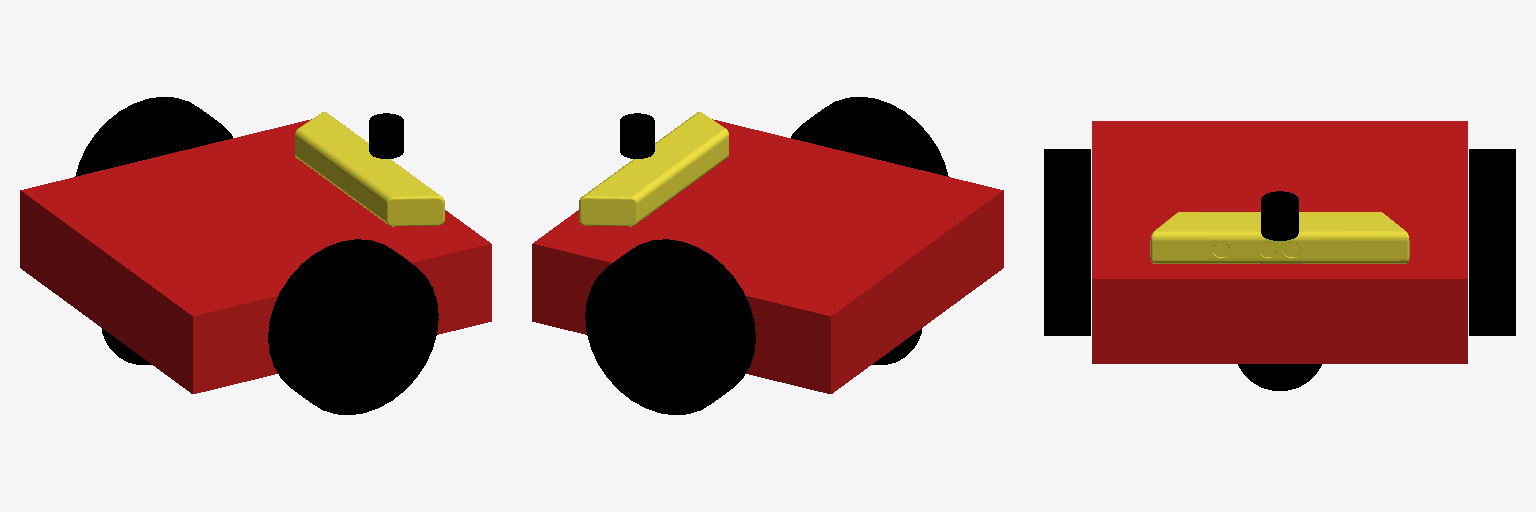
robot.urdf — trail_robo_rtab:
<?xml version="1.0" ?>

<robot name="trail_robo_rtab">
    
  <material name="black">
    <color rgba="0.0 0.0 0.0 1.0"/>
  </material>
  <material name="blue">
    <color rgba="0.203125 0.23828125 0.28515625 1.0"/>
  </material>
  <material name="green">
    <color rgba="0.0 0.8 0.0 1.0"/>
  </material>
  <material name="grey">
    <color rgba="0.2 0.2 0.2 1.0"/>
  </material>
  <material name="orange">
    <color rgba="1.0 0.423529411765 0.0392156862745 1.0"/>
  </material>
  <material name="brown">
    <color rgba="0.870588235294 0.811764705882 0.764705882353 1.0"/>
  </material>
  <material name="red">
    <color rgba="0.80078125 0.12890625 0.1328125 1.0"/>
  </material>
  <material name="white">
    <color rgba="1.0 1.0 1.0 1.0"/>
  </material>  
  
  <gazebo reference="chassis">
    <material>Gazebo/Red</material>
  </gazebo>
  <gazebo reference="left_wheel">
    <material>Gazebo/Black</material>
  </gazebo>
  <gazebo reference="right_wheel">
    <material>Gazebo/Black</material>
  </gazebo>

  
<!-- fixed link  
<link name="robot_footprint"></link>
  <joint name="robot_footprint_joint" type="fixed">
    <origin xyz="0 0 0" rpy="0 0 0" />
    <parent link="robot_footprint"/>
    <child link="chassis" />
  </joint>
  
  -->
  
  <!--- trail_robo base link-->
  
    <link name="chassis">
    
    <pose>0 0 0.1 0 0 0</pose>
    
    <inertial>
      <mass value="2"/>
      <origin rpy="0 0 0" xyz="0 0 0"/>
      <inertia ixx="0.028333" ixy="0" ixz="0" iyy="0.028333" iyz="0" izz="0.05333"/>
    </inertial>
    
    <collision name="collision_chassis">
      <geometry>
        <box size="0.4 0.4 0.1"/>
      </geometry>
    </collision>
    
    <visual>
      <origin rpy="0 0 0" xyz="0 0 0"/>
      <geometry>
        <box size="0.4 0.4 0.1"/>
      </geometry>
      <material name="red"/>
    </visual>
    
    
    <inertial>
  	<mass value="0.25"/>
      <origin rpy="0 0 0" xyz="0 0 0"/>
      <inertia ixx="0.0004167" ixy="0" ixz="0" iyy="0.0004167" iyz="0" izz="0.0004167"/>
  </inertial>
     <collision name="caster_collision">
      <origin rpy=" 0 0 0" xyz="0.15 0 -0.05"/>
      <geometry>
        <sphere radius="0.049"/>
      </geometry>
      <surface>
        <friction>
          <ode>
            <mu>0</mu>
            <mu2>0</mu2>
            <slip1>1.5</slip1>
            <slip2>1.5</slip2>
          </ode>
        </friction>
      </surface>
    </collision>
    <visual name="caster_visual">
      <origin rpy=" 0 0 0" xyz="0.15 0 -0.05"/>
      <geometry>
        <sphere radius="0.05"/>
      </geometry>
      <material name="black"/>
    </visual>
    
    <inertial>
  	<mass value="0.25"/>
      <origin rpy="0 0 0" xyz="0 0 0"/>
      <inertia ixx="0.0004167" ixy="0" ixz="0" iyy="0.0004167" iyz="0" izz="0.0004167"/>
  </inertial>
     <collision name="caster_collision2">
      <origin rpy=" 0 0 0" xyz="-0.15 0 -0.05"/>
      <geometry>
        <sphere radius="0.049"/>
      </geometry>
      <surface>
        <friction>
          <ode>
            <mu>0</mu>
            <mu2>0</mu2>
            <slip1>1.5</slip1>
            <slip2>1.5</slip2>
          </ode>
        </friction>
      </surface>
    </collision>
    <visual name="caster_visual2">
      <origin rpy=" 0 0 0" xyz="-0.15 0 -0.05"/>
      <geometry>
        <sphere radius="0.05"/>
      </geometry>
      <material name="black"/>
    </visual>
     
    
    </link>
  
 <!-- 
  <link name="caster_wheel">
  
  <joint name="joint_caster_wheel" type="fixed">
    <origin rpy="0 0 0" xyz="0.19490 0 -0.05"/>   
    <parent link="chassis"/>
    <child link="caster_wheel" />
    <axis rpy="0 0 0" xyz="0 0 0"/>
  </joint>  
  
  -->
  
  
  <!-- Create wheel right -->  
    
  <link name="right_wheel">    
    <inertial>
      <mass value="0.2"/>
      <origin xyz="0 -0.025 0" rpy="1.5707 0 0"/>
      <inertia ixx="0.0005417" ixy="0" ixz="0" iyy="0.0005417" iyz="0" izz="0.001"/>
    </inertial>
    
    <collision name="right_wheel_collision">
       <origin xyz="0 -0.025 0" rpy="1.5707 0 0"/>
      <geometry>
        <cylinder length="0.05" radius="0.1"/>
      </geometry>
    </collision>
    
    <visual name="right_wheel_visual">
       <origin xyz="0 -0.025 0" rpy="1.5707 0 0"/>
      <geometry>
        <cylinder length="0.05" radius="0.1"/>
      </geometry>  
      <material name="black"/>    
    </visual>
    
  </link>
    
  <!--   Joint for right wheel  -->
  <joint name="joint_right_wheel" type="continuous">
    <origin rpy="0 0 0" xyz="0 -0.201 0"/>
    
    <parent link="chassis"/>
    <child link="right_wheel" />
    <axis xyz="0 1 0"/>

   </joint>
    
  <!-- Left Wheel link -->
    
  <link name="left_wheel">    
    <inertial>
      <mass value="0.2"/>
      <origin rpy="1.5707 0 0" xyz="0 0.025 0"/>
     <inertia ixx="0.0005417" ixy="0" ixz="0" iyy="0.0005417" iyz="0" izz="0.001"/>
    </inertial>
    
    <collision name="left_wheel_collision">
      <origin rpy="1.5707 0 0" xyz="0 0.025 0" />
      <geometry>
        <cylinder length="0.05" radius="0.1"/>
      </geometry>
    </collision>
    
    <visual name="left_wheel_visual">
      <origin rpy="1.5707 0 0" xyz="0 0.025 0"/>
      <geometry>
        <cylinder length="0.05" radius="0.1"/>
      </geometry>   
      <material name="black"/>    
    </visual>
    
  </link>
    
  <!--   Joint for left wheel  -->
  <joint name="joint_left_wheel" type="continuous">
    <origin rpy="0 0 0" xyz="0 0.201 0"/>
    <child link="left_wheel" />
    <parent link="chassis"/>
    <axis rpy="0 0 0" xyz="0 1 0"/>
   
  </joint>    
  
  
  <!--Camera-->
  
  <link name="camera_frame">
  <inertial>
    <origin xyz="0.0 0.0 0.0" rpy="0.0 0.0 0.0"/>
    <mass value="0.1"/>
    <inertia ixx="1e-6" ixy="0.0" ixz="0.0" iyy="1e-6" iyz="0.0" izz="1e-6"/>
  </inertial>

  <visual name="camera_visual">
    <origin xyz="0.0 0.0 0.0" rpy="0.0 0.0 0.0"/>
    
    <geometry>
    <mesh filename="package://rtab/meshes/kinect.dae"/>
      <!--box size="0.05 0.05 0.05"/-->
    </geometry>
    <!--material name="white"/-->
  </visual>
  <collision>
    <origin xyz="0.0 0.0 0.0" rpy="0.0 0.0 0.0"/>
    <geometry>
      <box size="0.05 0.05 0.05"/>
    </geometry>
    
  </collision>
</link>

<joint name="camera_head_joint" type="fixed">
  <origin xyz="0.175 0 0.0725" rpy="0.0 0 0"/>
  <parent link="chassis"/>
  <child link="camera_frame"/>
  <axis xyz="0 0 0.0"/>
  <limit lower="0.0" upper="0.0" effort="0.0" velocity="0.0"/>
</joint>

<link name="camera_rgbd_frame"/>

<joint name="camera_joint" type="fixed">
        <origin xyz="0 0 0" rpy="-1.5707 0 -1.5707"/>
        <parent link="camera_frame"/>
        <child link="camera_rgbd_frame"/>
    </joint>

  

<link name="sensor_hokuyo">
  <inertial>
    <origin xyz="0.0 0.0 0.0" rpy="0.0 0.0 0.0"/>
    <mass value="0.1"/>
    <inertia ixx="1e-6" ixy="0.0" ixz="0.0" iyy="1e-6" iyz="0.0" izz="1e-6"/>
  </inertial>

  <visual>
    <origin xyz="0.0 0.0 0.0" rpy="0.0 0.0 0.0"/>
    <geometry>
      <cylinder radius="0.02" length="0.04"/>
    </geometry>
    <material name="black"/>
  </visual>
  <collision>
    <origin xyz="0.0 0.0 0.0" rpy="0.0 0.0 0.0"/>
    <geometry>
      <cylinder radius="0.02" length="0.04"/>
    </geometry>
    
  </collision>
</link>

<joint name="sensor_head_joint" type="fixed">
  <origin xyz="0 0 0.040" rpy="0.0 0 0"/>
  <parent link="camera_frame"/>
  <child link="sensor_hokuyo"/>
  <axis xyz="0 0 0.0"/>
</joint>
  
  
  <!-- Plugins -->
  
 <gazebo>
    <plugin name="differential_drive_controller" filename="libgazebo_ros_diff_drive.so">
      <legacyMode>false</legacyMode>
      <alwaysOn>true</alwaysOn>
      <updateRate>10</updateRate>
      <leftJoint>joint_left_wheel</leftJoint>
      <rightJoint>joint_right_wheel</rightJoint>
      <wheelSeparation>0.5</wheelSeparation>
      <wheelDiameter>0.2</wheelDiameter>
      <torque>100</torque>
      <commandTopic>cmd_vel</commandTopic>
      <odometryTopic>odom</odometryTopic>
      <odometryFrame>odom</odometryFrame>
      <robotBaseFrame>chassis</robotBaseFrame>
      <publishWheelTF>false</publishWheelTF>
      <publishWheelJointState>false</publishWheelJointState>
      <rosDebugLevel>na</rosDebugLevel>
      <wheelAcceleration>0</wheelAcceleration>
      <wheelTorque>20</wheelTorque>
      <odometrySource>world</odometrySource>
      <publishTf>1</publishTf>
      <publishOdomTF>true</publishOdomTF>
    </plugin>
  </gazebo>
  
  <gazebo reference="camera_frame">
    <sensor type="depth" name="camera">
    <always_on>true</always_on>
      <update_rate>10.0</update_rate>
       <visualize>true</visualize>   
      <camera name="head">
        <horizontal_fov>1.047198</horizontal_fov>
        <image>
          <width>640</width>
          <height>480</height>
          <format>R8G8B8</format>
        </image>
        <clip>
          <near>0.05</near>
          <far>8.0</far>
        </clip>
      </camera>

    <plugin name="kinect_camera_controller" filename="libgazebo_ros_openni_kinect.so">
          <baseline>0.1</baseline>
          <alwaysOn>true</alwaysOn>
          <updateRate>0</updateRate>
          <cameraName>camera</cameraName>
          <imageTopicName>/camera/rgb/image_raw</imageTopicName>
          <cameraInfoTopicName>/camera/rgb/camera_info</cameraInfoTopicName>
          <depthImageTopicName>/camera/depth/image_raw</depthImageTopicName>
          <depthImageCameraInfoTopicName>/camera/depth/camera_info</depthImageCameraInfoTopicName>
          <pointCloudTopicName>/camera/depth/points</pointCloudTopicName>
          <frameName>camera_rgbd_frame</frameName>
          <pointCloudCutoff>0.5</pointCloudCutoff>
          <pointCloudCutoffMax>4.0</pointCloudCutoffMax>
          <distortionK1>0</distortionK1>
          <distortionK2>0</distortionK2>
          <distortionK3>0</distortionK3>
          <distortionT1>0</distortionT1>
          <distortionT2>0</distortionT2>
          
           <CxPrime>0</CxPrime>
          <Cx>0</Cx>
          <Cy>0</Cy>
          <focalLength>0</focalLength>
          <hackBaseline>0</hackBaseline> 
          
        </plugin>
        </sensor>
     </gazebo>
  

  
  <gazebo reference="sensor_hokuyo">
    <sensor type="ray" name="head_hokuyo_sensor">
      <pose>0 0 0 0 0 0</pose>
      <visualize>False</visualize>
      <update_rate>10</update_rate>
      <ray>
        <scan>
         <!-- <vertical >
            <samples>4</samples>
            <resolution>1</resolution>
            <min_angle>-0.0698132</min_angle>
            
            <max_angle>0</max_angle>
          </vertical> -->
          
          <horizontal>
            <samples>720</samples>
            <resolution>1</resolution>
            <min_angle>-1.570796</min_angle>
            <max_angle>1.570796</max_angle>
          </horizontal>
        </scan>
        
        <range>
          <min>0.10</min>
          <max>30.0</max>
          <resolution>0.01</resolution>
        </range>
        <noise>
          <type>gaussian</type>
  
          <mean>0.0</mean>
          <stddev>0.01</stddev>
        </noise>
      </ray>
      <plugin name="gazebo_ros_head_hokuyo_controller" filename="libgazebo_ros_laser.so">
        <topicName>/hokuyo/scan</topicName>
        <frameName>sensor_hokuyo</frameName>
      </plugin>
    </sensor>
  </gazebo>  
 
 </robot>

--- Facts derived from the render (not from the file) ---
Views: 3 orthographic renders of the robot side by side, from view 1: azimuth 30°, elevation 25°; view 2: azimuth 150°, elevation 25°; view 3: azimuth 270°, elevation 25°.
Robot: trail_robo_rtab — 6 links, 5 joints (2 continuous, 3 fixed); root link chassis; default pose: all joints at 0.
Links seen in each view (by area): view 1: chassis, right_wheel, camera_frame, left_wheel, sensor_hokuyo; view 2: chassis, left_wheel, camera_frame, right_wheel, sensor_hokuyo; view 3: chassis, camera_frame, right_wheel, left_wheel, sensor_hokuyo.
Boxes of the visible links, <box> form: chassis: <box>20,119,491,393</box>; right_wheel: <box>268,239,438,414</box>; camera_frame: <box>295,112,444,226</box>; left_wheel: <box>75,97,232,176</box>; sensor_hokuyo: <box>369,113,403,158</box>; chassis: <box>532,119,1003,393</box>; left_wheel: <box>585,239,755,414</box>; camera_frame: <box>579,112,728,226</box>; right_wheel: <box>791,97,948,176</box>; sensor_hokuyo: <box>620,113,654,158</box>; chassis: <box>1092,121,1467,390</box>; camera_frame: <box>1150,212,1409,263</box>; right_wheel: <box>1044,149,1090,335</box>; left_wheel: <box>1469,149,1515,335</box>; sensor_hokuyo: <box>1261,191,1298,240</box>.
Bounding box of the posed robot: 0.4 × 0.502 × 0.2325 m (x, y, z).
1 mesh visuals loaded from 1 distinct referenced files (1 Collada DAE).
